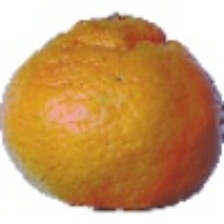tangerine: (48, 29, 209, 177)
